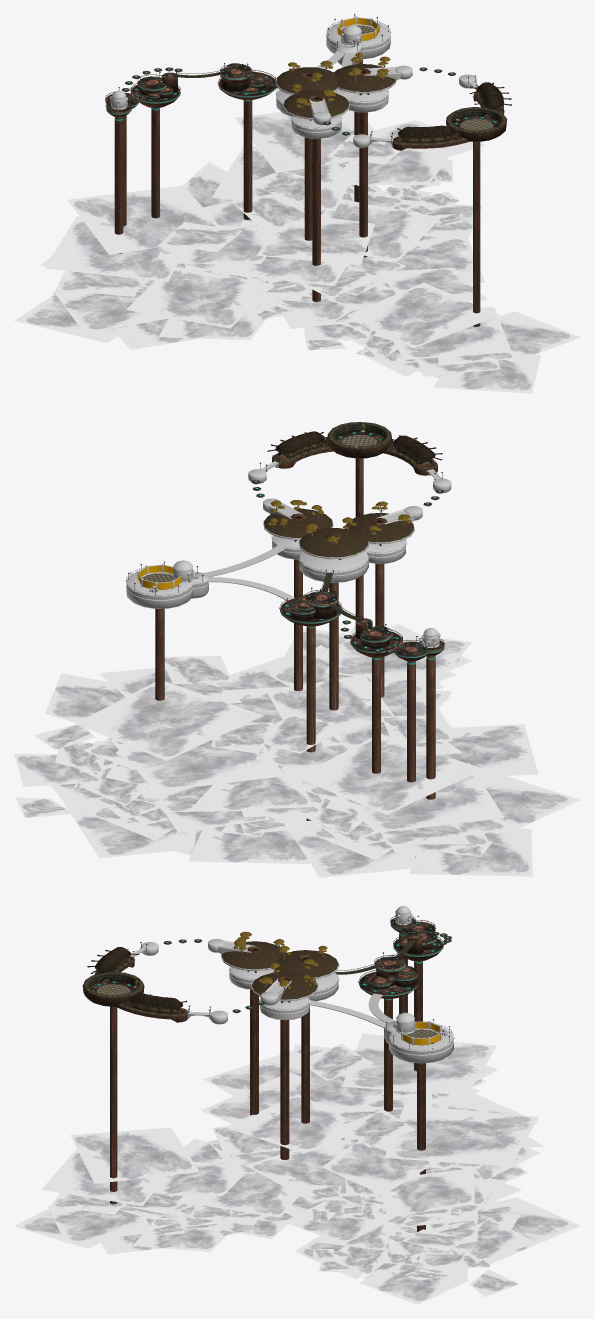
File: levelGeometry.fbx
The picture shows the model from 3 angles, top to bottom: view 1: azimuth 30°, elevation 25°; view 2: azimuth 150°, elevation 25°; view 3: azimuth 270°, elevation 25°; orthographic projection. The views are drawn at different scales.
Parts seen in each view (by area): view 1: cloudPlanes, firstPlatform, launchTubes, arenaPlatform, firstFloorPlatforms, grassTop, midPlatform, laserTunnels, impoundPlatform, allTrees, impoundLot, bigBridges (+1 smaller); view 2: cloudPlanes, firstPlatform, firstFloorPlatforms, launchTubes, grassTop, arenaPlatform, midPlatform, impoundPlatform, laserTunnels, allTrees, impoundLot, bigBridges (+1 smaller); view 3: cloudPlanes, launchTubes, firstFloorPlatforms, arenaPlatform, grassTop, midPlatform, firstPlatform, impoundPlatform, laserTunnels, allTrees, bigBridges, impoundLot (+1 smaller).
Boxes of the visible parts, <box> form: cloudPlanes: <box>14,110,580,393</box>; firstPlatform: <box>105,72,180,253</box>; launchTubes: <box>301,61,370,301</box>; arenaPlatform: <box>392,92,506,326</box>; firstFloorPlatforms: <box>275,50,412,138</box>; grassTop: <box>276,64,395,117</box>; midPlatform: <box>177,63,277,219</box>; laserTunnels: <box>393,82,511,143</box>; impoundPlatform: <box>326,19,391,65</box>; allTrees: <box>288,52,390,108</box>; impoundLot: <box>336,16,380,47</box>; bigBridges: <box>353,74,478,148</box>; cloudPlanes: <box>14,624,580,877</box>; firstPlatform: <box>350,618,444,857</box>; firstFloorPlatforms: <box>203,498,422,600</box>; launchTubes: <box>155,513,387,710</box>; grassTop: <box>264,508,414,557</box>; arenaPlatform: <box>272,422,437,621</box>; midPlatform: <box>280,572,361,820</box>; impoundPlatform: <box>125,567,208,608</box>; laserTunnels: <box>267,431,442,464</box>; allTrees: <box>267,500,411,546</box>; impoundLot: <box>137,560,198,589</box>; bigBridges: <box>248,461,451,492</box>; cloudPlanes: <box>14,1033,580,1304</box>; launchTubes: <box>247,946,425,1232</box>; firstFloorPlatforms: <box>208,939,395,1028</box>; arenaPlatform: <box>82,956,188,1204</box>; grassTop: <box>221,941,338,999</box>; midPlatform: <box>335,940,417,1111</box>; firstPlatform: <box>390,918,443,1071</box>; impoundPlatform: <box>384,1021,454,1063</box>; laserTunnels: <box>87,947,187,1014</box>; allTrees: <box>233,931,327,993</box>; bigBridges: <box>130,942,227,1024</box>; impoundLot: <box>393,1012,441,1045</box>.
Bounding box in the file's own units: 359 × 203 × 379.
